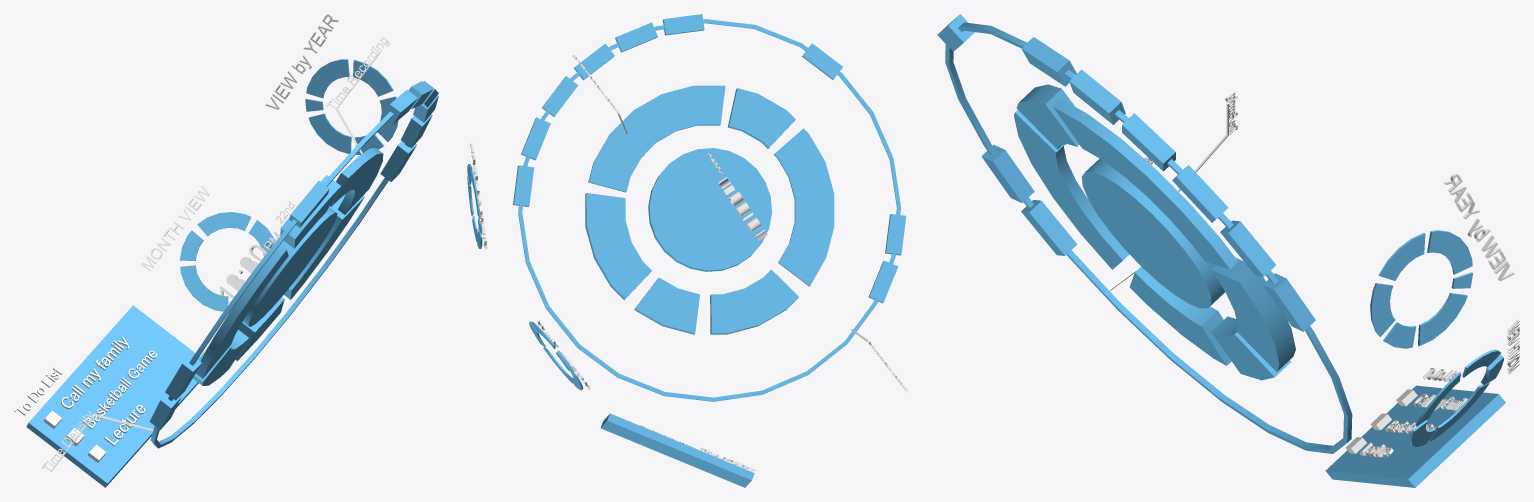
3 renders of one model, left to right at view 1: azimuth 30°, elevation 25°; view 2: azimuth 150°, elevation 25°; view 3: azimuth 270°, elevation 25°, orthographic. The views are drawn at different scales.
Parts seen in each view (by area): view 1: Group1; view 2: Group1; view 3: Group1.
Boxes of the visible parts, x1,y1,x2,y2 form: Group1: (14, 14, 438, 487); Group1: (467, 14, 908, 487); Group1: (937, 14, 1519, 487).
Bounding box in the file's own units: 3519 × 3298 × 3183.
